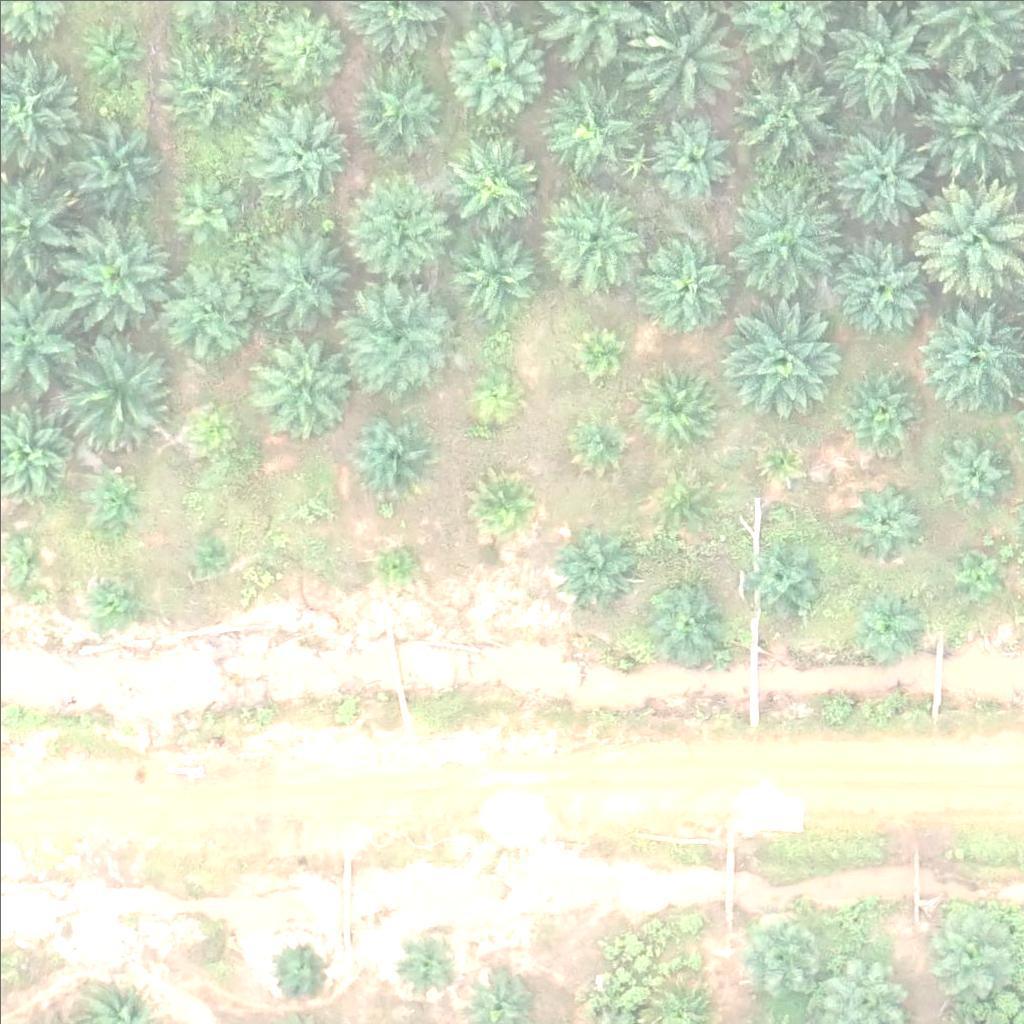Kelapa_Sawit: (723, 305, 836, 419), (64, 338, 177, 451), (59, 206, 172, 319), (344, 282, 456, 396), (724, 172, 836, 285), (66, 111, 166, 212), (249, 327, 349, 428), (351, 170, 451, 271), (445, 21, 545, 122), (636, 1, 736, 102), (828, 237, 928, 338), (157, 33, 257, 133), (155, 258, 255, 358), (248, 221, 348, 321), (255, 101, 355, 201), (444, 133, 544, 233), (543, 76, 643, 176), (547, 184, 647, 284), (636, 236, 736, 336), (739, 68, 839, 168), (832, 123, 932, 223), (917, 894, 1017, 994), (348, 411, 436, 499), (355, 64, 443, 152), (450, 230, 538, 318), (742, 534, 830, 622), (647, 111, 735, 199), (836, 367, 924, 455), (259, 2, 346, 90), (642, 578, 729, 666), (633, 363, 720, 451), (740, 909, 827, 997), (558, 522, 633, 598), (849, 480, 924, 556), (168, 176, 243, 251), (859, 596, 922, 659), (80, 22, 143, 85), (470, 475, 533, 538), (400, 933, 463, 996), (939, 441, 1001, 504), (268, 937, 330, 1000), (648, 469, 710, 532), (473, 368, 523, 419), (90, 579, 140, 629), (95, 476, 145, 526), (571, 326, 621, 376), (576, 418, 626, 468), (949, 549, 999, 599), (193, 530, 231, 568), (380, 546, 417, 584), (204, 412, 241, 449), (765, 446, 802, 483), (303, 495, 328, 521)
